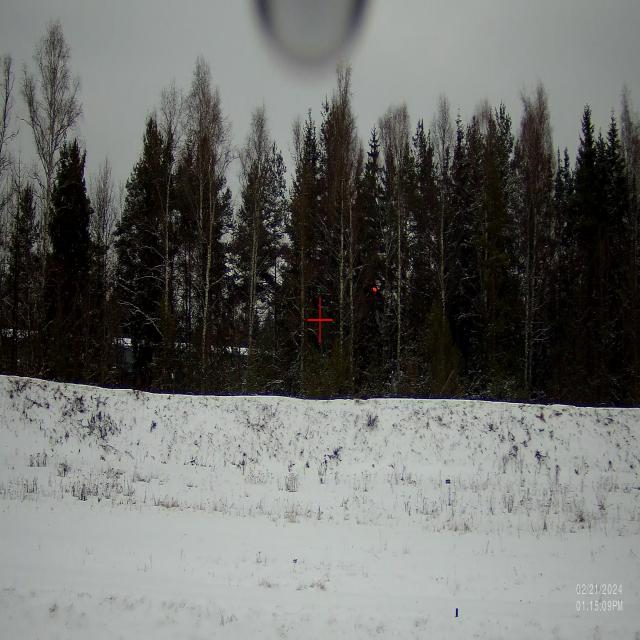entire: (371, 277, 384, 293)
